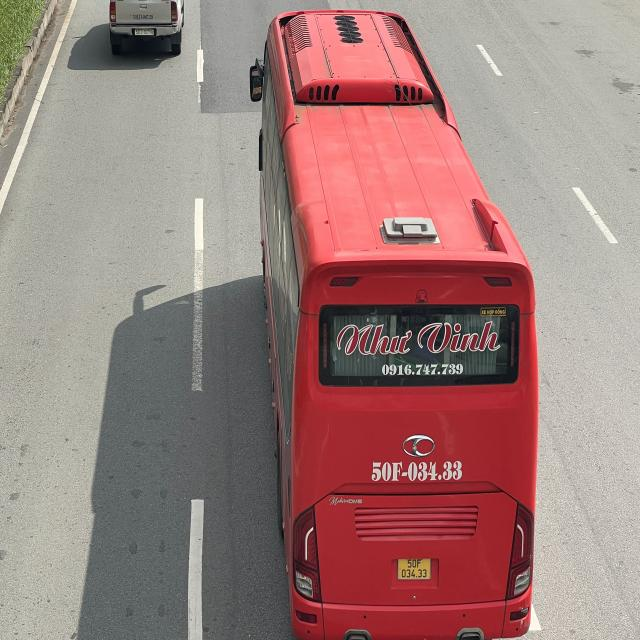car: (108, 0, 186, 56)
coach: (251, 10, 543, 640)
